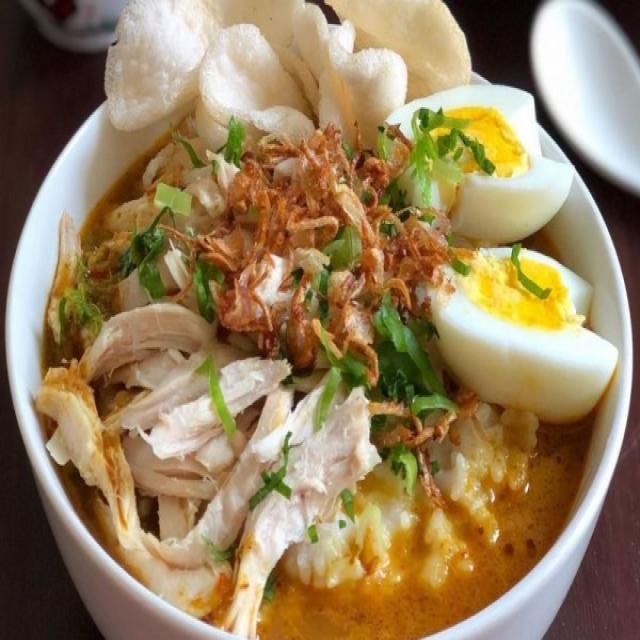bubur ayam: (34, 0, 593, 638)
mangkuk: (6, 59, 637, 640)
telur rebus: (412, 248, 620, 426), (386, 85, 568, 242)
